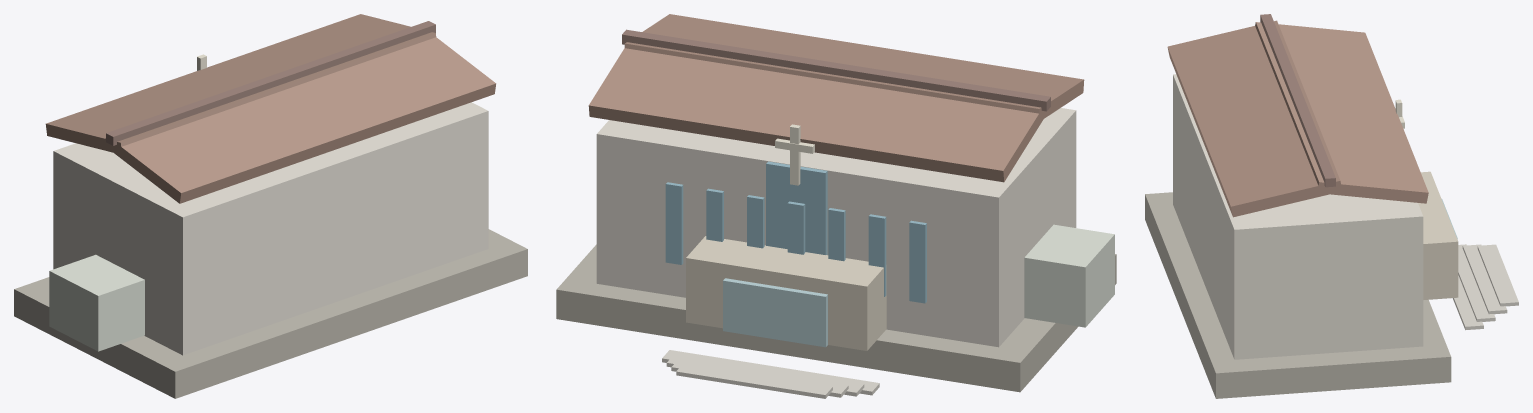
The model's file is shalom-overview.glb.
The picture shows the model from 3 angles, left to right: view 1: azimuth 30°, elevation 25°; view 2: azimuth 150°, elevation 25°; view 3: azimuth 270°, elevation 25°; orthographic projection. The views are drawn at different scales.
Size of the model in its own units: 27.55 by 13.04 by 21.59.
